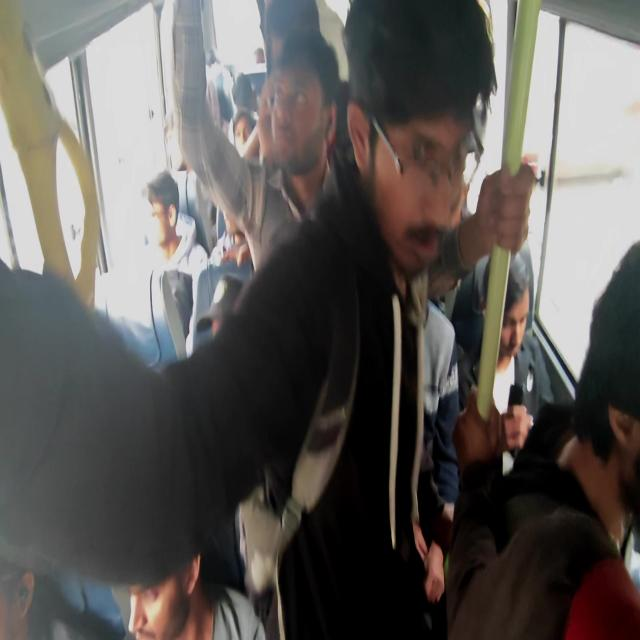person: (372, 103, 475, 277), (564, 425, 637, 549), (270, 66, 330, 178), (483, 261, 534, 376), (124, 562, 192, 640), (0, 550, 40, 639), (197, 286, 245, 346), (230, 71, 259, 109), (162, 111, 182, 159), (147, 201, 176, 234), (236, 125, 250, 140)
